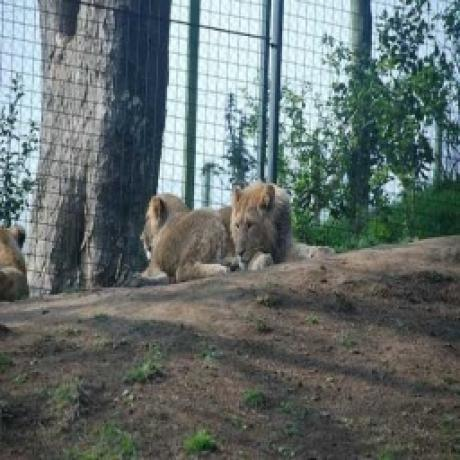Lion: (143, 181, 334, 281)
